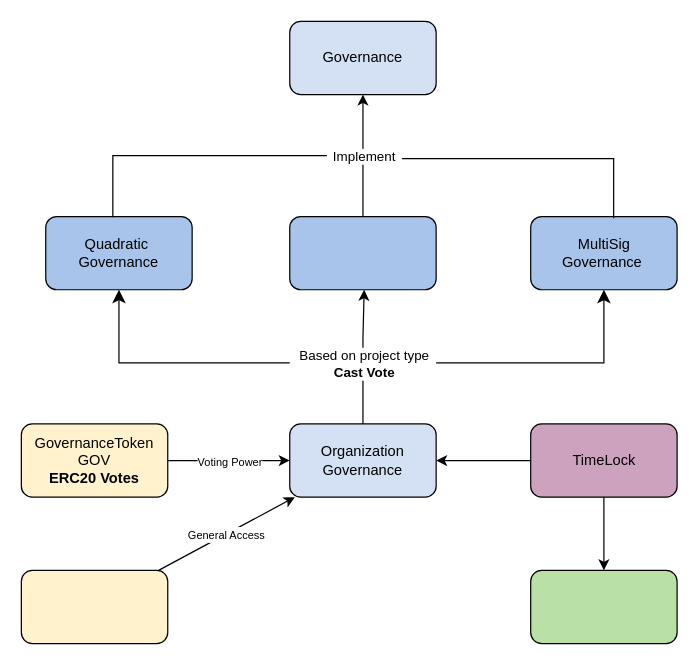
This 699x665 diagram has some shape labels left out. Each missing label, with the centre of its shape:
Box: point 603,606
MembershipNFT MEM ERC1155: point 94,606
Token Based Governance: point 362,252
